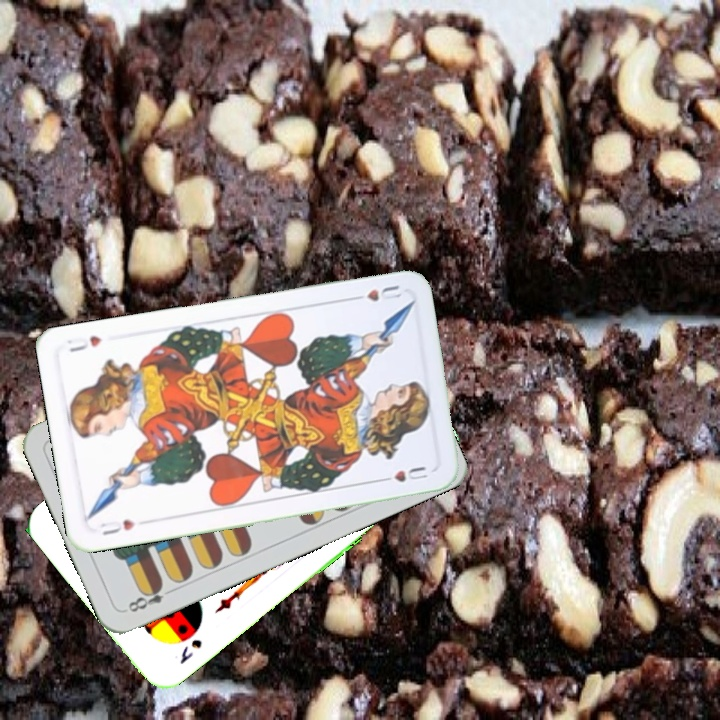E8: (124, 579, 177, 615)
HU: (346, 280, 404, 306), (96, 515, 138, 538)
SK: (175, 634, 205, 667)
